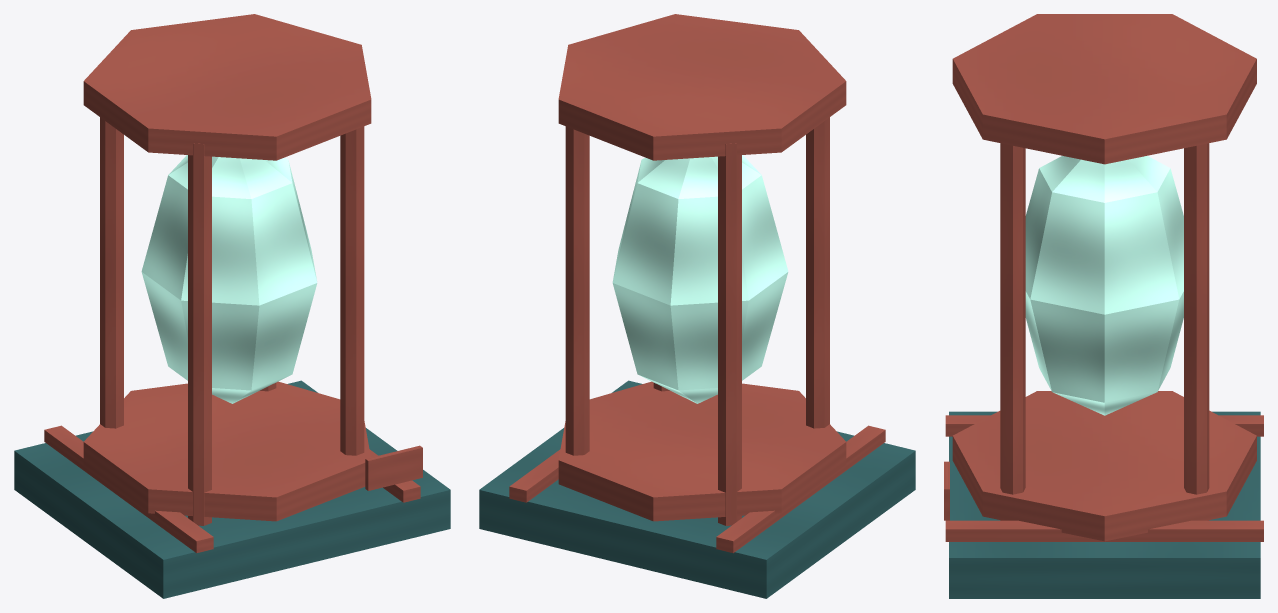
File: atlas100-s033-a01.lod1.glb
3 renders of one model, left to right at view 1: azimuth 30°, elevation 25°; view 2: azimuth 150°, elevation 25°; view 3: azimuth 270°, elevation 25°, orthographic. The views are drawn at different scales.
Visible parts, largest first — view 1: atlas100-s033-a01:part-004, atlas100-s033-a01:part-013, atlas100-s033-a01:part-003, atlas100-s033-a01:part-000, atlas100-s033-a01:part-007, atlas100-s033-a01:part-005, atlas100-s033-a01:part-009, atlas100-s033-a01:part-001, atlas100-s033-a01:part-014, atlas100-s033-a01:part-002; view 2: atlas100-s033-a01:part-004, atlas100-s033-a01:part-013, atlas100-s033-a01:part-000, atlas100-s033-a01:part-003, atlas100-s033-a01:part-009, atlas100-s033-a01:part-011, atlas100-s033-a01:part-007, atlas100-s033-a01:part-001, atlas100-s033-a01:part-002; view 3: atlas100-s033-a01:part-004, atlas100-s033-a01:part-013, atlas100-s033-a01:part-003, atlas100-s033-a01:part-000, atlas100-s033-a01:part-005, atlas100-s033-a01:part-011, atlas100-s033-a01:part-002, atlas100-s033-a01:part-001.
Boxes of the visible parts, x1,y1,x2,y2 form: atlas100-s033-a01:part-004: (83,14,371,160); atlas100-s033-a01:part-013: (141,155,317,403); atlas100-s033-a01:part-003: (83,381,370,521); atlas100-s033-a01:part-000: (14,380,450,598); atlas100-s033-a01:part-007: (188,143,211,525); atlas100-s033-a01:part-005: (340,126,364,455); atlas100-s033-a01:part-009: (100,117,123,428); atlas100-s033-a01:part-001: (44,425,213,553); atlas100-s033-a01:part-014: (365,445,422,490); atlas100-s033-a01:part-002: (369,449,420,502); atlas100-s033-a01:part-004: (558,14,846,160); atlas100-s033-a01:part-013: (612,155,788,403); atlas100-s033-a01:part-000: (479,380,915,598); atlas100-s033-a01:part-003: (558,381,846,521); atlas100-s033-a01:part-009: (718,143,741,525); atlas100-s033-a01:part-011: (565,126,589,455); atlas100-s033-a01:part-007: (806,117,829,428); atlas100-s033-a01:part-001: (716,425,885,553); atlas100-s033-a01:part-002: (509,449,560,502); atlas100-s033-a01:part-004: (952,14,1256,164); atlas100-s033-a01:part-013: (1025,156,1183,415); atlas100-s033-a01:part-003: (952,391,1256,541); atlas100-s033-a01:part-000: (949,411,1260,598); atlas100-s033-a01:part-005: (1000,143,1025,520); atlas100-s033-a01:part-011: (1184,143,1209,520); atlas100-s033-a01:part-002: (945,520,1263,541); atlas100-s033-a01:part-001: (945,415,1263,436).
Bounding box in the file's own units: 2 × 2.88 × 1.85.
3 materials, 3 textured.
